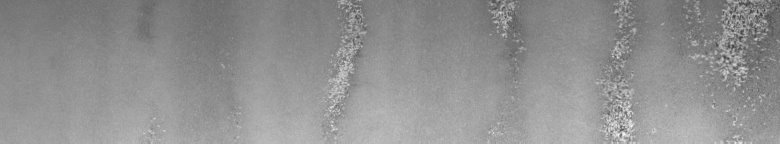hc: (595, 4, 776, 136)
